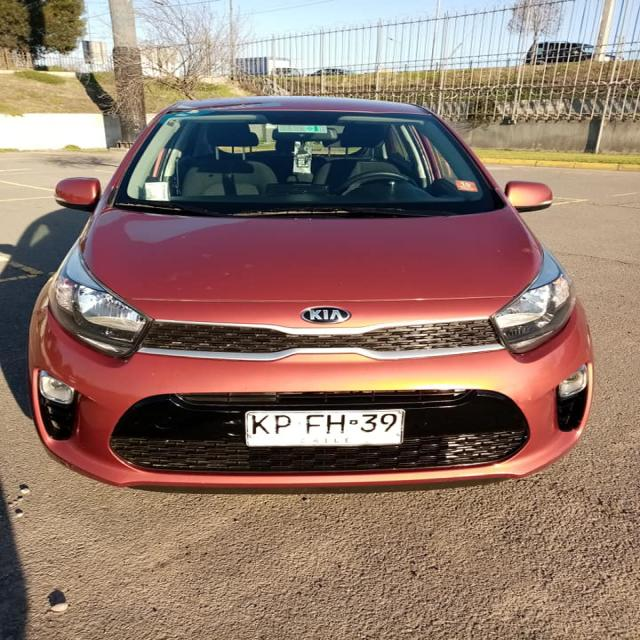patente: (242, 408, 405, 447)
